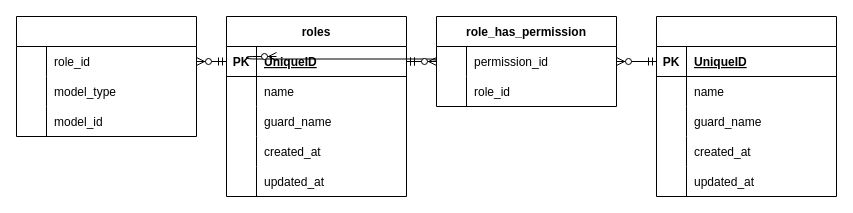
Some shapes in this 853 by 213 pixel diagram are drawn without their labels. The box of each missing label's shape, as (x1, y1, x2, y2) in pixels:
model_has_roles: (16, 16, 196, 136)
permissions: (656, 16, 836, 196)
